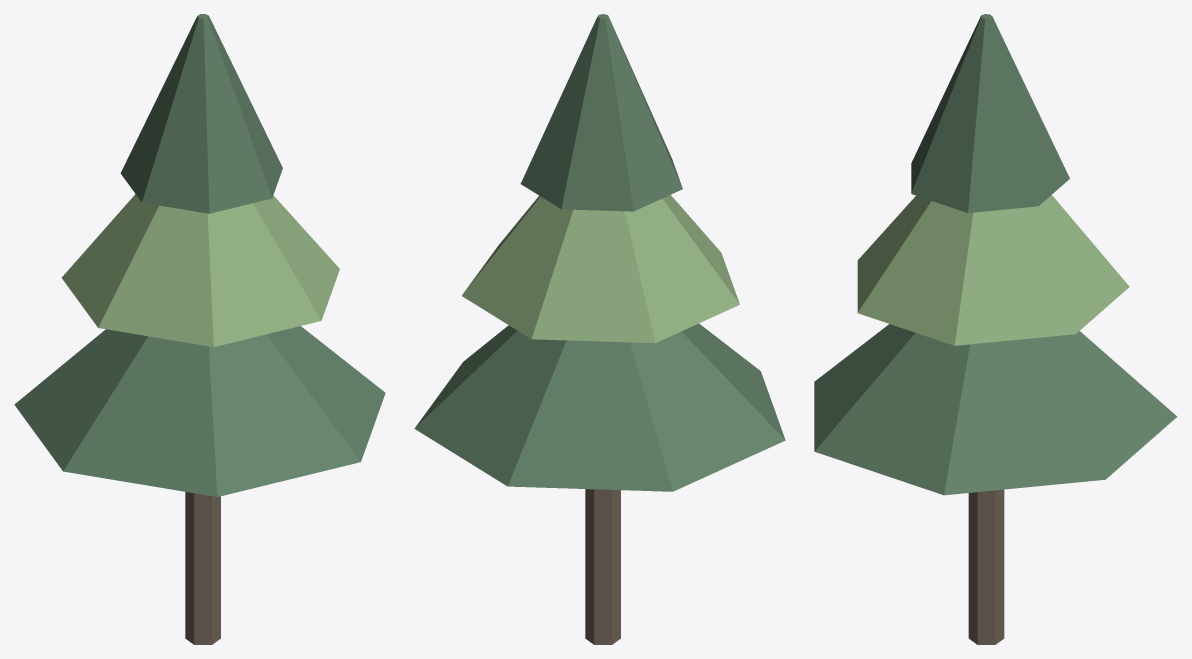
The model's file is lqv_lowpoly_tree_pino.glb.
3 renders of one model, left to right at view 1: azimuth 30°, elevation 25°; view 2: azimuth 150°, elevation 25°; view 3: azimuth 270°, elevation 25°, orthographic.
Parts seen in each view (by area): view 1: Pino_cone_0, Pino_cone_1, Pino_cone_2, Pino_trunk; view 2: Pino_cone_0, Pino_cone_1, Pino_cone_2, Pino_trunk; view 3: Pino_cone_0, Pino_cone_1, Pino_cone_2, Pino_trunk.
Part boxes in pixels (x1,y1,x2,y2): Pino_cone_0: [14, 326, 385, 496]; Pino_cone_1: [61, 194, 339, 346]; Pino_cone_2: [120, 14, 282, 213]; Pino_trunk: [185, 492, 220, 644]; Pino_cone_0: [414, 323, 785, 491]; Pino_cone_1: [462, 195, 739, 343]; Pino_cone_2: [520, 14, 682, 211]; Pino_trunk: [585, 489, 620, 644]; Pino_cone_0: [814, 324, 1177, 495]; Pino_cone_1: [857, 195, 1129, 345]; Pino_cone_2: [911, 14, 1069, 212]; Pino_trunk: [968, 489, 1004, 644].
Bounding box in the file's own units: 3.12 × 5.75 × 3.04.
